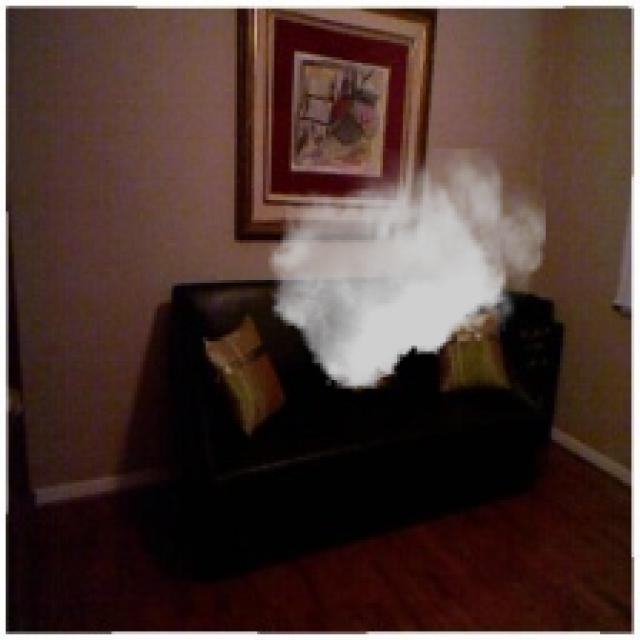smoke: (268, 148, 546, 388)
